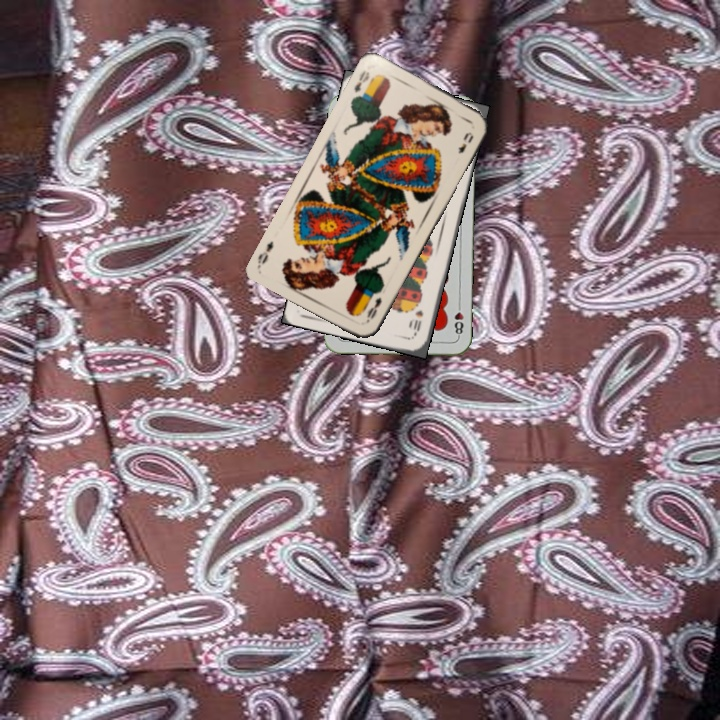EO: (362, 293, 384, 326), (350, 66, 372, 95)
H8: (450, 299, 466, 340)
S10: (409, 306, 426, 338)
